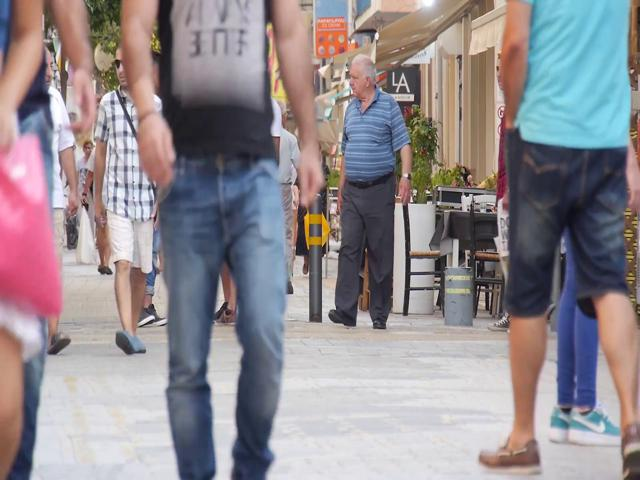shoe: (477, 436, 541, 475), (569, 408, 621, 446), (328, 309, 357, 326), (47, 333, 70, 354), (115, 331, 136, 354), (488, 312, 510, 331), (214, 310, 238, 324), (373, 317, 387, 329)
